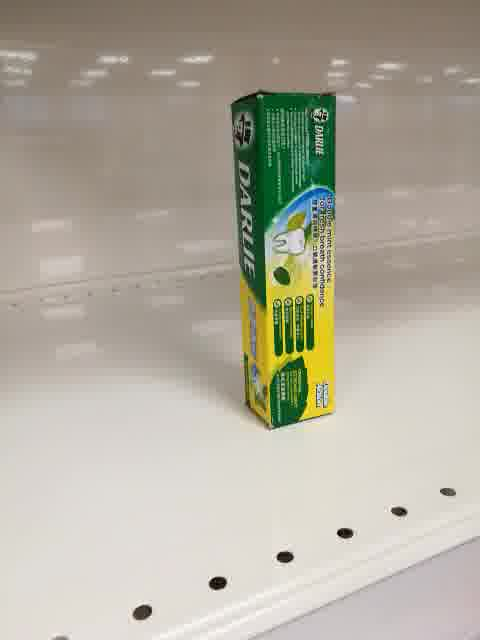toothpaste: (230, 91, 337, 429)
